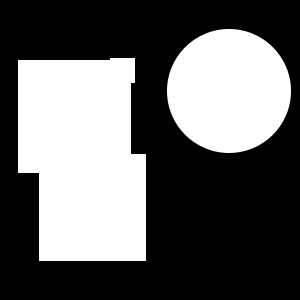circle: (18, 60, 131, 173), (39, 154, 146, 261), (110, 58, 135, 83)
rectangle: (167, 29, 291, 153), (194, 49, 252, 108)
